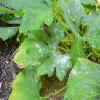Squash Powdery mildew leaf: (27, 21, 72, 81), (0, 0, 55, 32), (64, 56, 97, 99), (19, 65, 41, 99), (67, 0, 86, 26), (83, 17, 99, 46)
